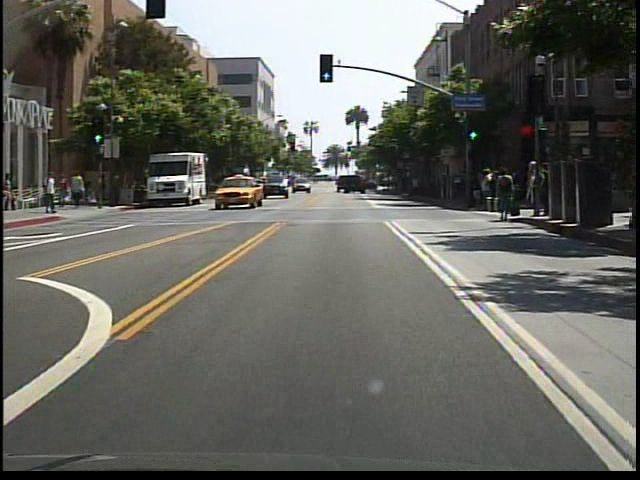person: (493, 165, 518, 224), (44, 168, 60, 216), (72, 168, 89, 210), (4, 174, 22, 212), (59, 174, 72, 208)
